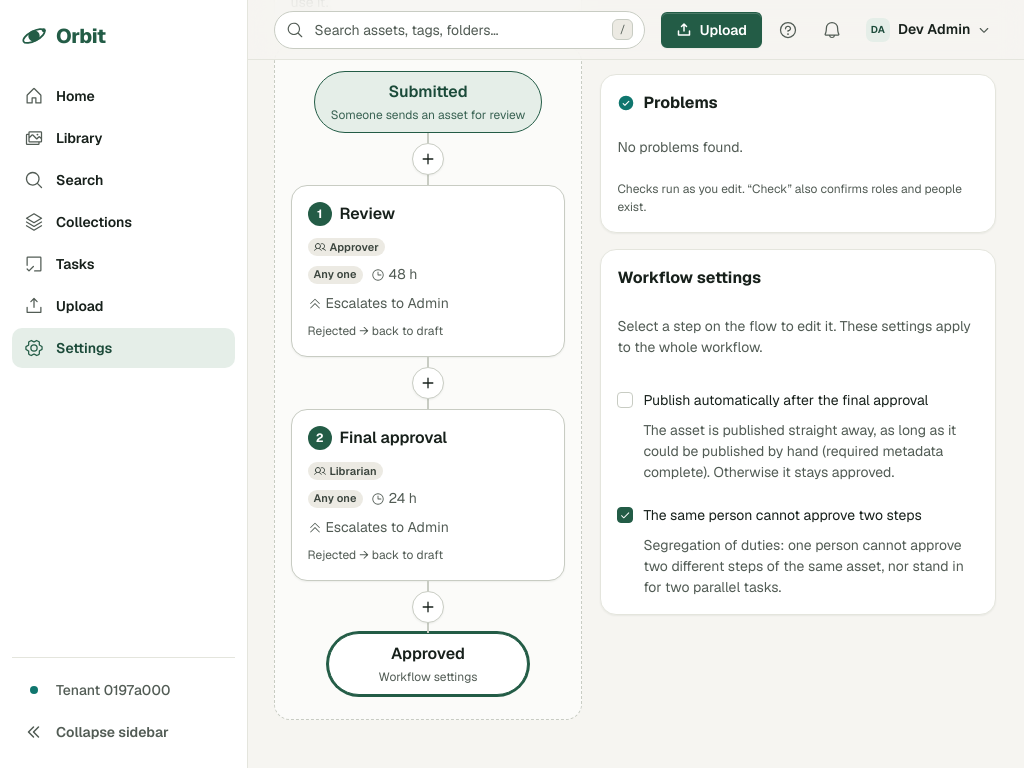
Test: designer: editing the flow › routes a rejection to another step and shows it on the card
(page scrolled)
Click the button with aria-label "Step 2: Final approval": (393, 438) [291, 409, 565, 581]
(page scrolled)
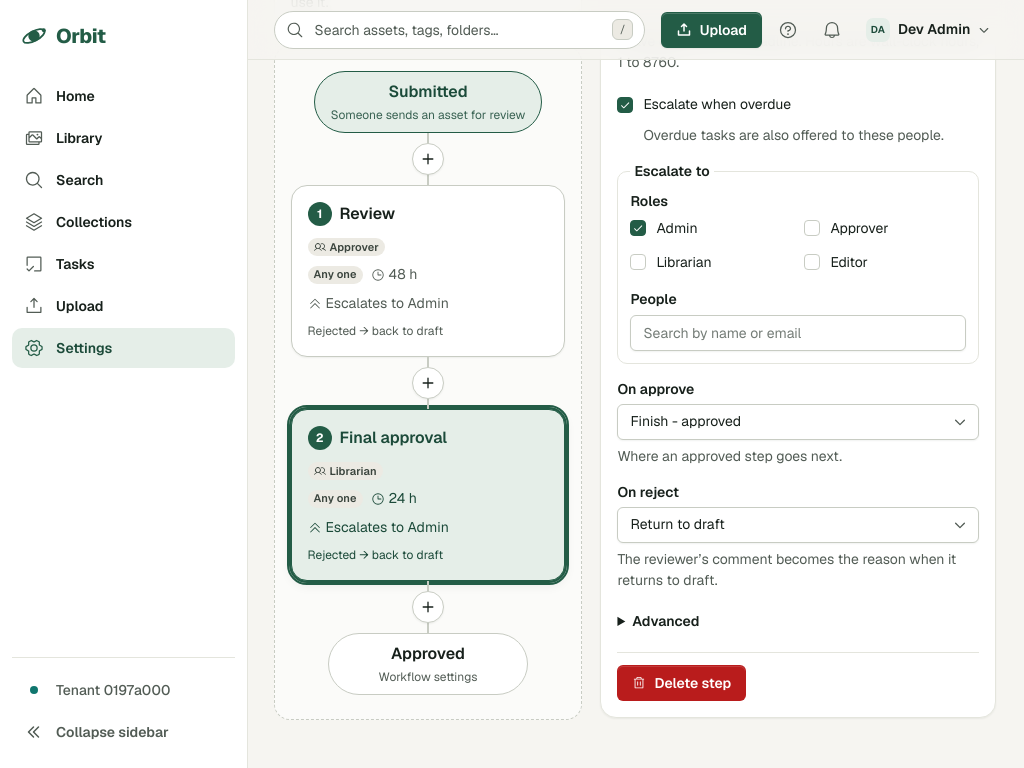
Select "Review" in the dropdown labelled "On reject": (798, 525) [617, 507, 979, 543]
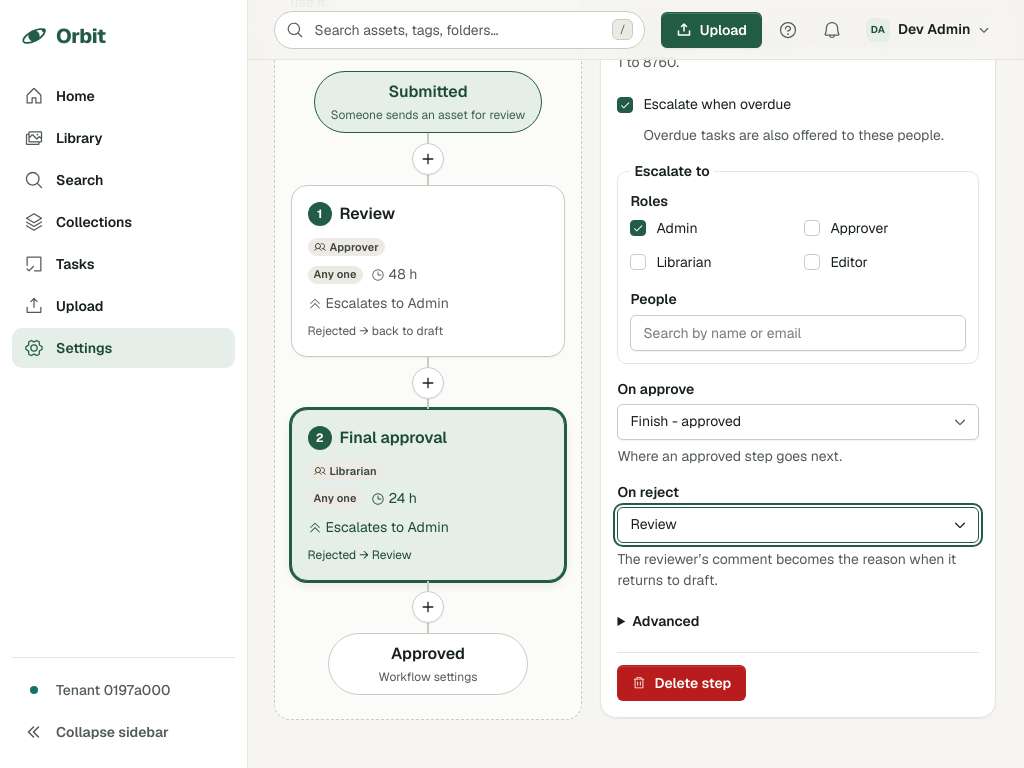
expect the button with aria-label "Step 2: Final approval" shows "Rejected → Review": met, box [291, 409, 565, 581]
